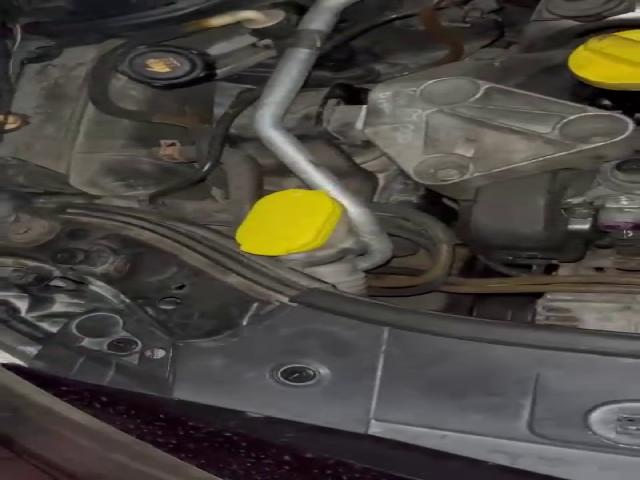antifreeze_tank: (2, 40, 216, 196)
